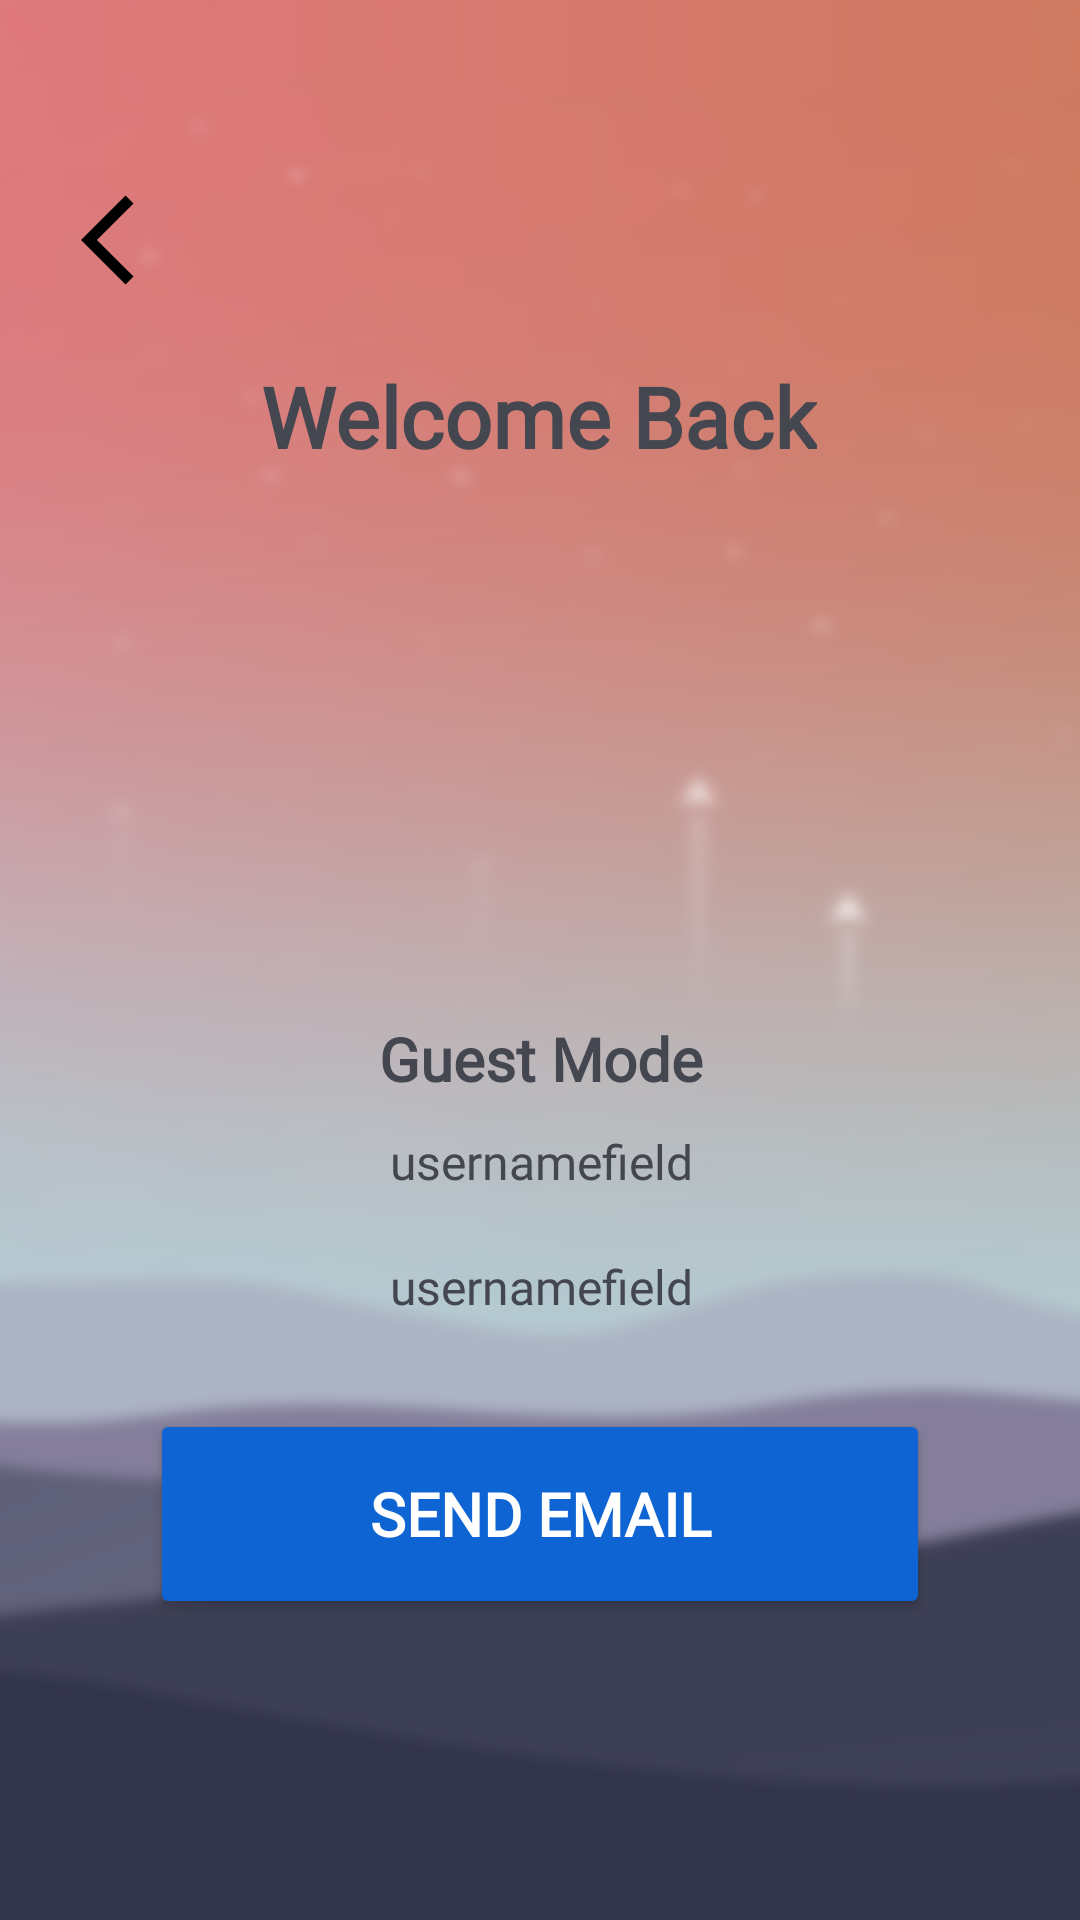

Screen size 1080 x 1920. Icon name, then its box in pixels as (x1, y1, x2, y2):
arrow back: (81, 195, 134, 285)
